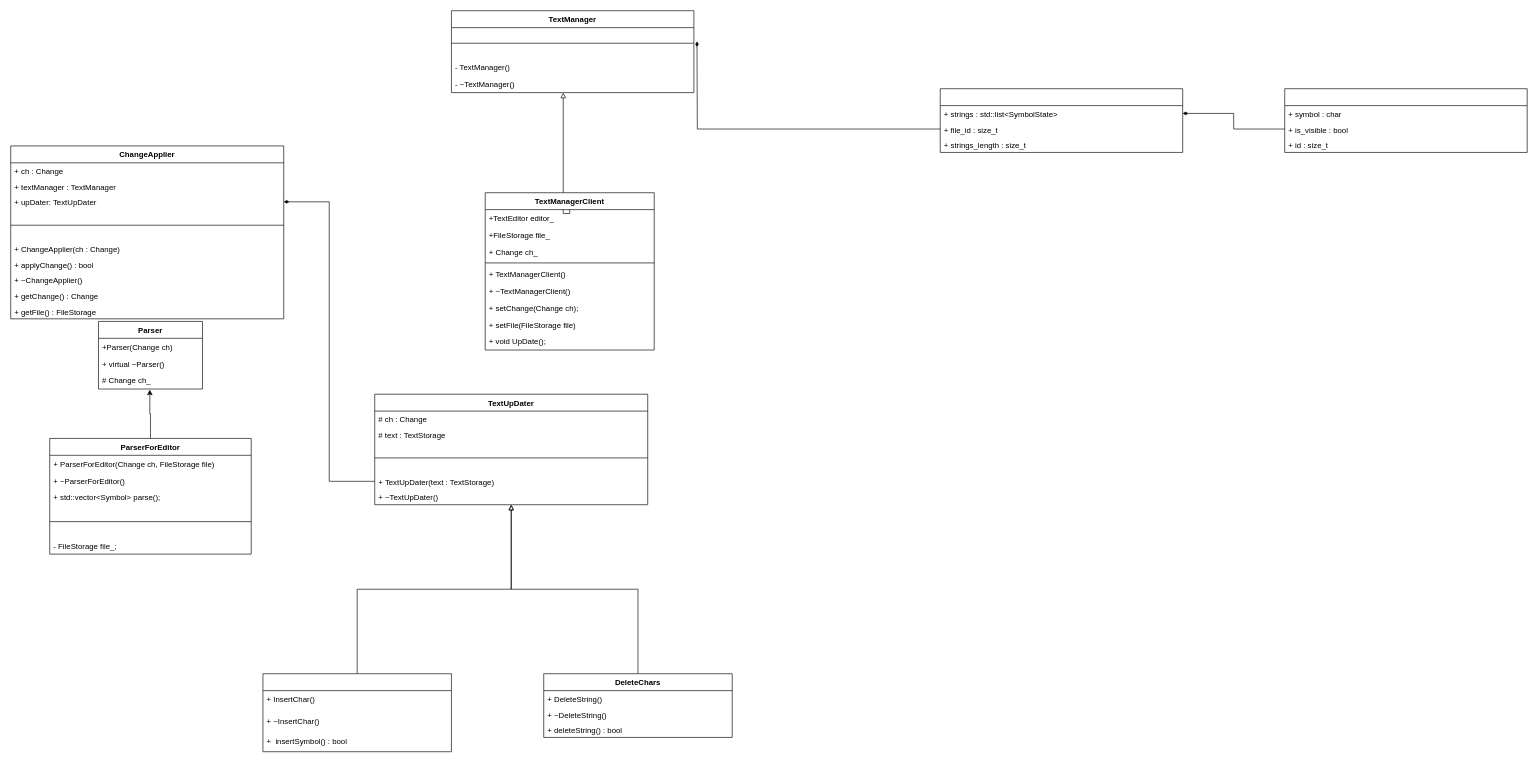
This 1538x762 diagram has some shape labels left out. Here are the shapes that lost their labels. From the top down, the box of each, then its label:
(940, 88, 1183, 152): TextStorage
(1284, 88, 1527, 152): SymbolState
(262, 673, 451, 752): InsertChars
